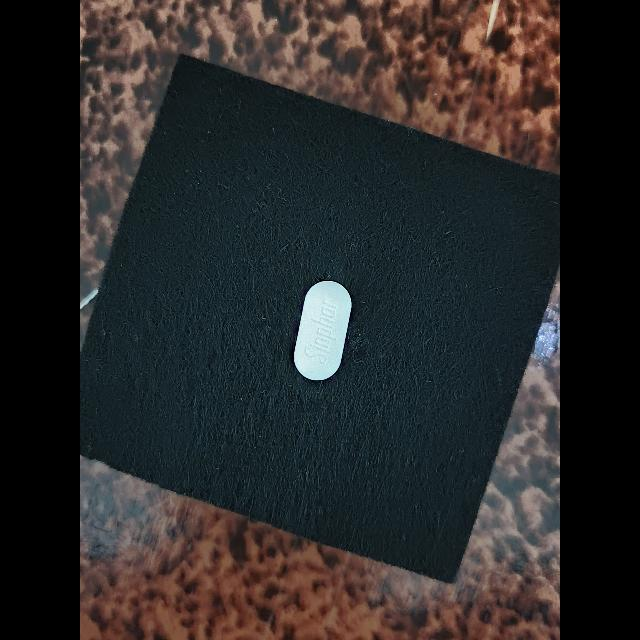Intact Pill: (294, 280, 352, 381)
